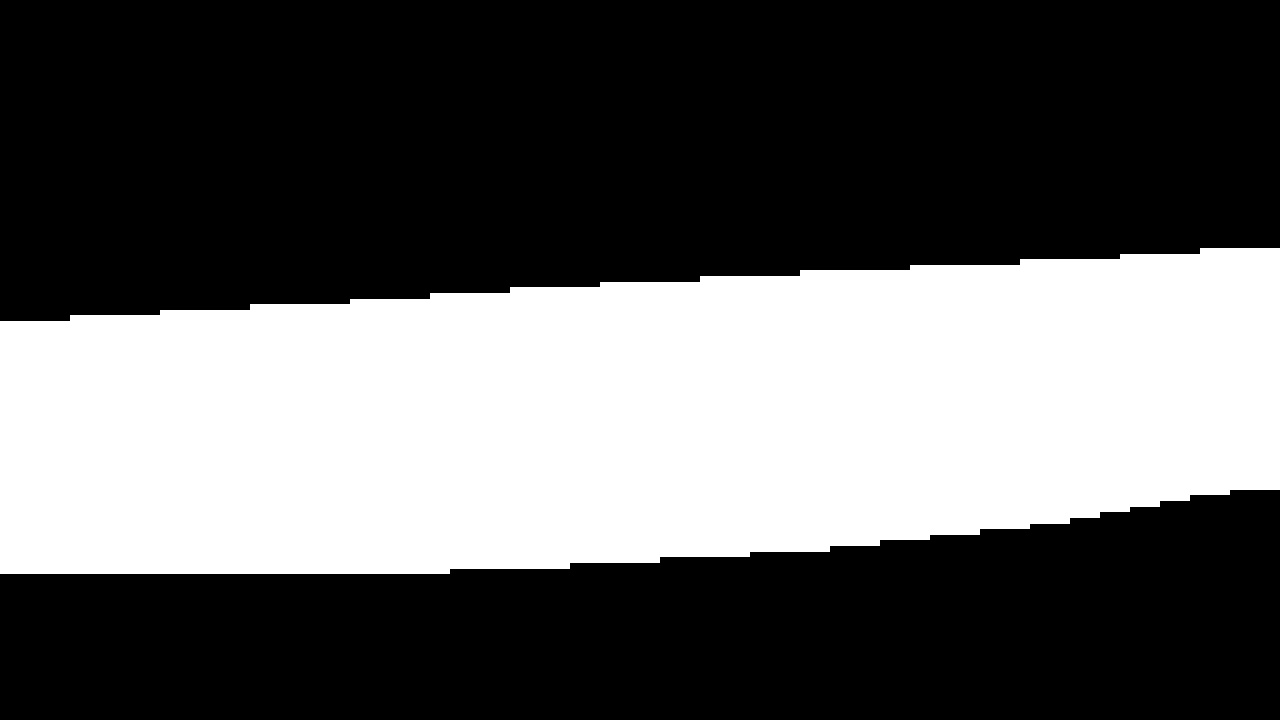Turbine: (11, 228, 1280, 581)
